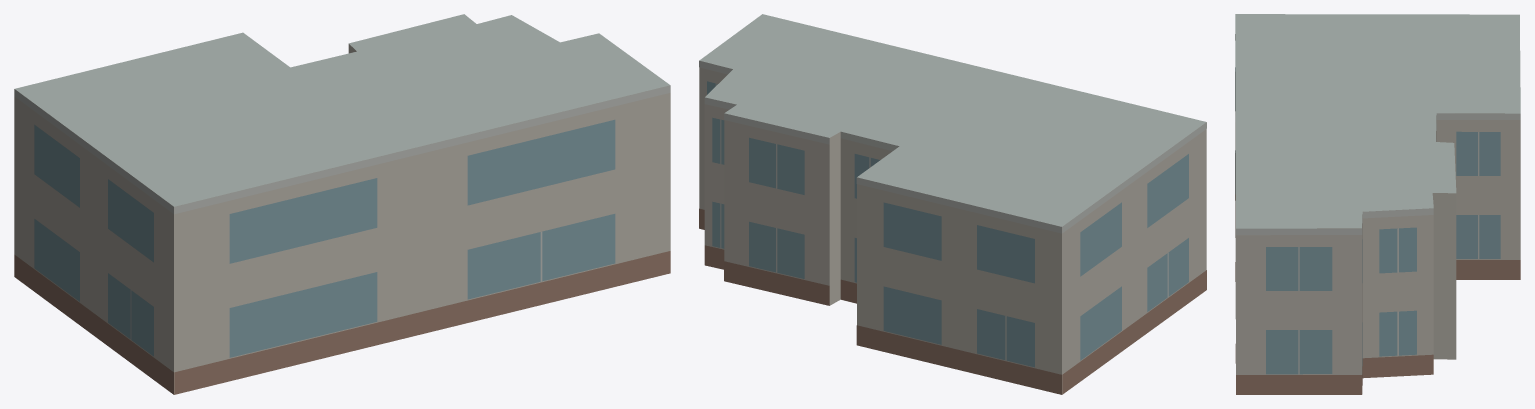
The model's file is survey-upis-32605022.glb.
3 renders of one model, left to right at view 1: azimuth 30°, elevation 25°; view 2: azimuth 150°, elevation 25°; view 3: azimuth 270°, elevation 25°, orthographic. The views are drawn at different scales.
Parts seen in each view (by area): view 1: survey-upis-32605022.tmp; view 2: survey-upis-32605022.tmp; view 3: survey-upis-32605022.tmp.
Boxes of the visible parts, bbox=[...] form: survey-upis-32605022.tmp: bbox=[14, 14, 670, 394]; survey-upis-32605022.tmp: bbox=[699, 14, 1206, 394]; survey-upis-32605022.tmp: bbox=[1235, 14, 1520, 394].
Bounding box in the file's own units: 16.88 × 6.1 × 9.5.
